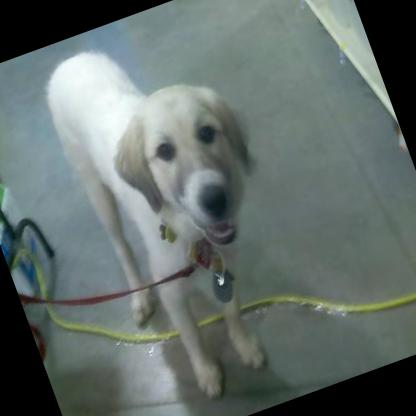Great_Pyrenees: (29, 4, 332, 416)
